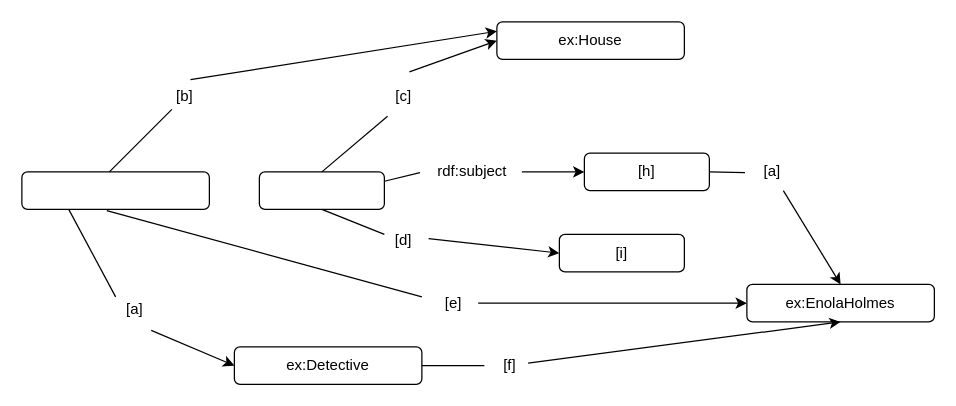
This 956x406 diagram has some shape labels left out. Here are the shapes that lost their labels. From the top down, the centre of each, then its label:
(115,190): ex:SherlockHolmes
(321,190): [g]
